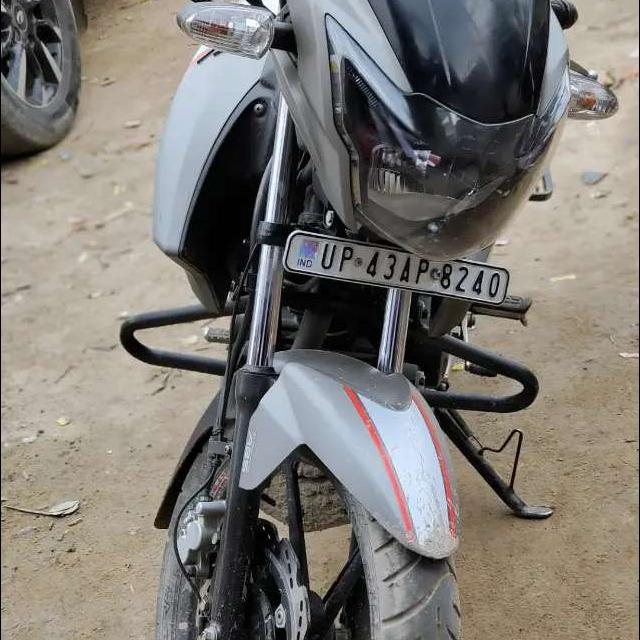Indian_Number_Plate: (286, 234, 506, 305)
